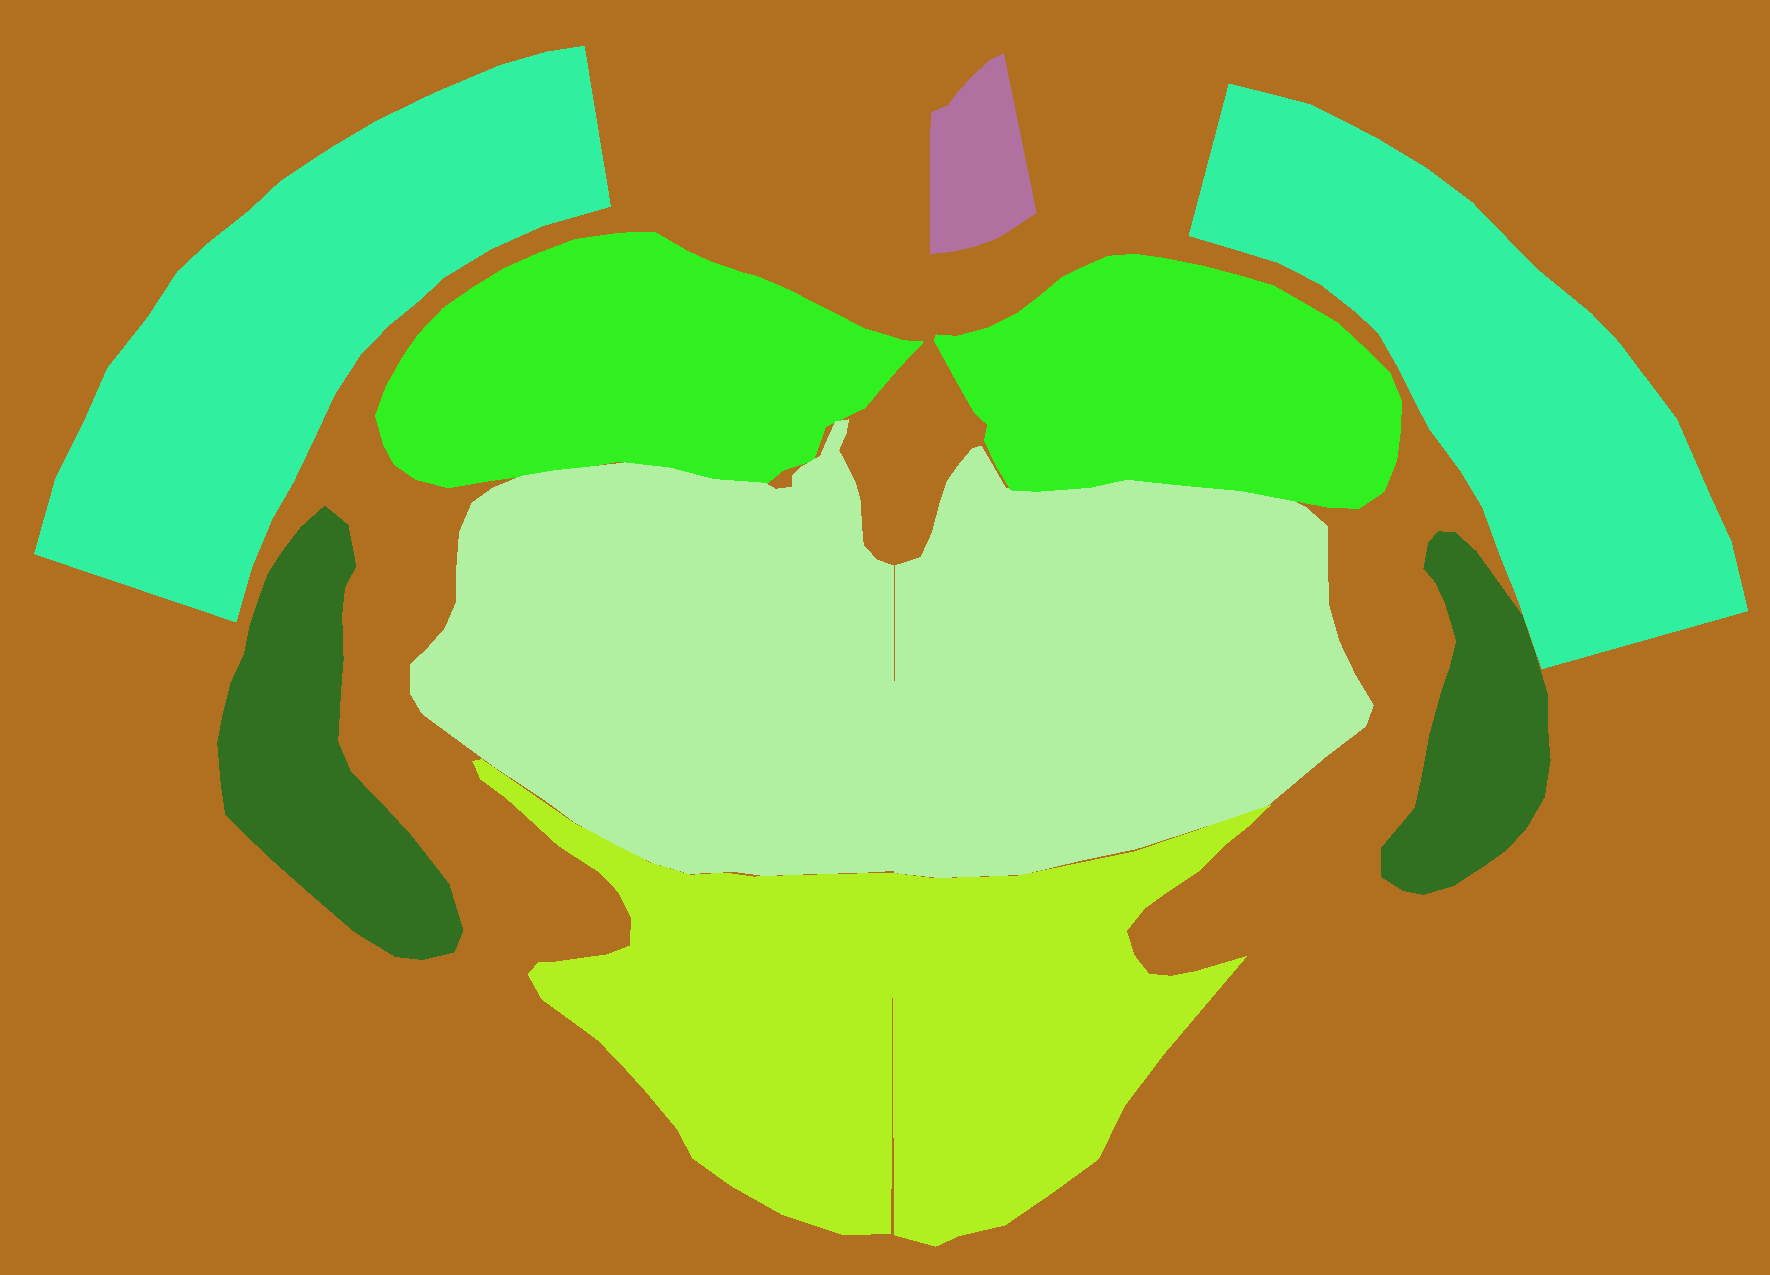Cerebral nuclei: (217, 506, 463, 960), (1381, 530, 1551, 894)
Hippocampal formation: (375, 232, 925, 489), (934, 254, 1402, 508)
Hypothalamus: (471, 758, 892, 1235), (892, 805, 1273, 1248)
Retrosplenial area: (930, 54, 1038, 254)
Somatosensory area: (34, 45, 612, 622), (1189, 82, 1749, 669)
Thalamus: (410, 419, 895, 877), (895, 447, 1374, 878)
